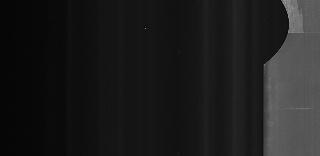welding line: (278, 26, 320, 36)
